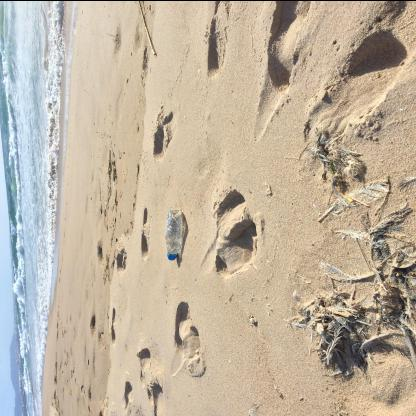plastik: (165, 210, 183, 260)
